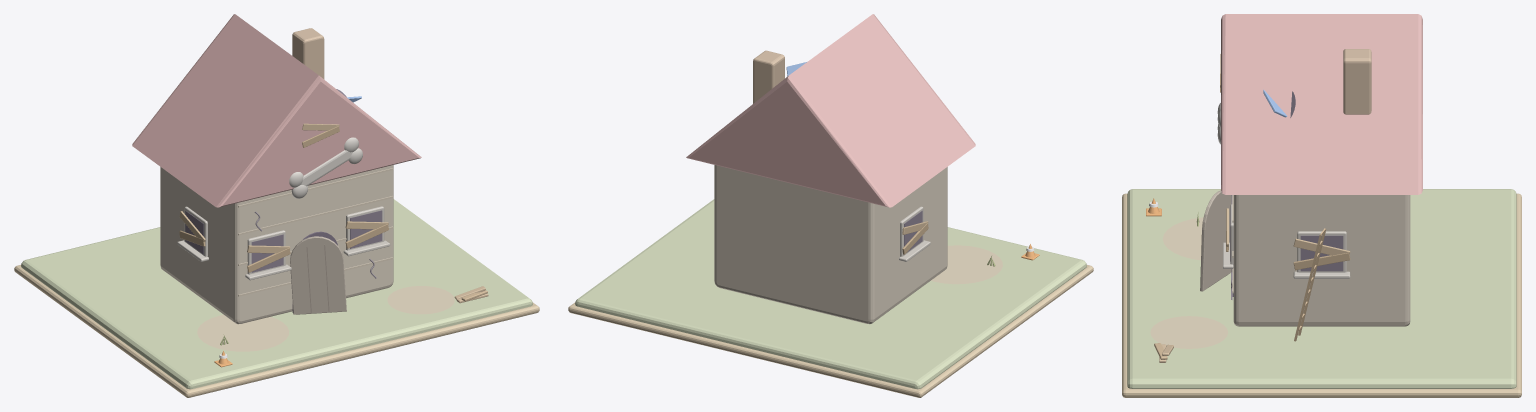
File: building_pets_L02.glb
3 views of the same model, side by side, from view 1: azimuth 30°, elevation 25°; view 2: azimuth 150°, elevation 25°; view 3: azimuth 270°, elevation 25° (orthographic). The views are drawn at different scales.
Parts seen in each view (by area): view 1: Body, pets_L2; view 2: Body, pets_L2; view 3: Body, pets_L2.
Boxes of the visible parts, <box> form: Body: <box>132,14,421,324</box>; pets_L2: <box>14,199,539,397</box>; Body: <box>686,14,975,324</box>; pets_L2: <box>568,199,1093,397</box>; Body: <box>1200,14,1422,326</box>; pets_L2: <box>1122,189,1521,397</box>.
Size of the model in its own units: 26.61 by 17.82 by 22.6.
